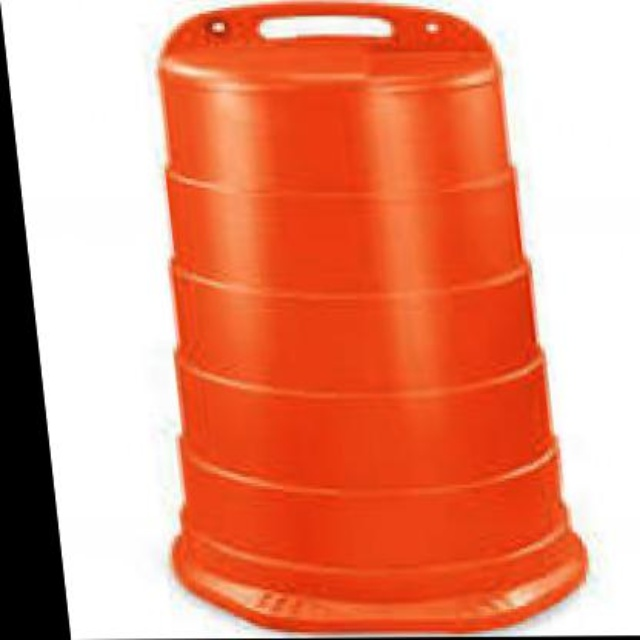obstacle: (91, 6, 571, 618)
